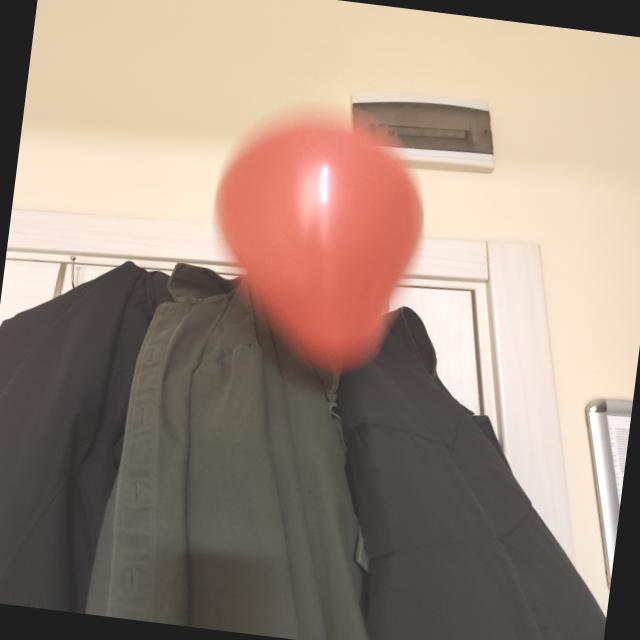balloon: (215, 120, 422, 368)
